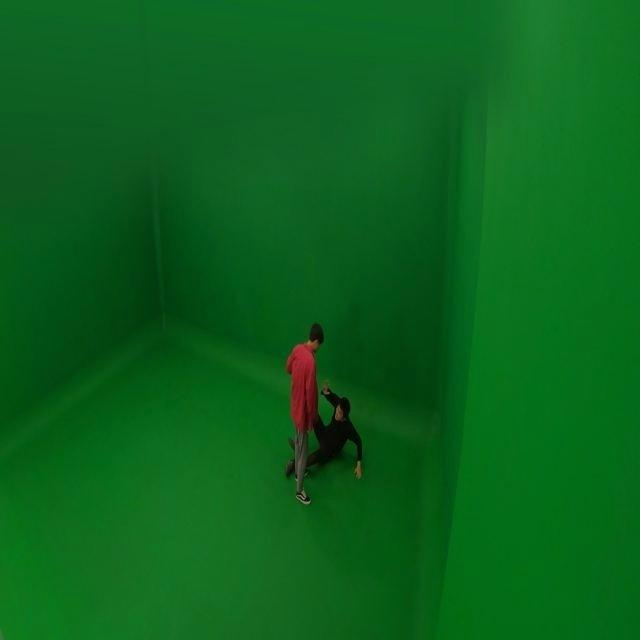fight: (284, 322, 367, 505)
